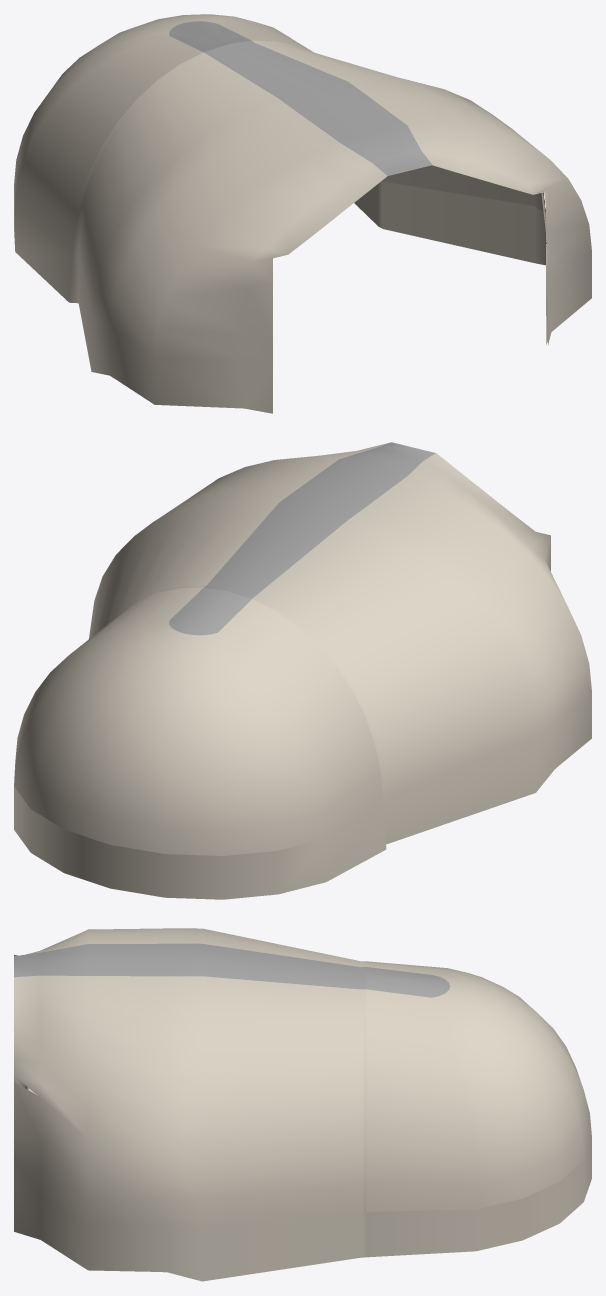
File: VERRIERE_FBX.fbx
3 views of the same model, one above another, from view 1: azimuth 30°, elevation 25°; view 2: azimuth 150°, elevation 25°; view 3: azimuth 270°, elevation 25° (orthographic). The views are drawn at different scales.
Visible parts, largest first — view 1: pSphere11; view 2: pSphere11; view 3: pSphere11.
Part boxes in pixels (x1=…): pSphere11: x1=14, y1=14, x2=591, y2=413; pSphere11: x1=14, y1=442, x2=591, y2=899; pSphere11: x1=14, y1=928, x2=591, y2=1281.
Size of the model in its own units: 2250 by 1153 by 2643.
